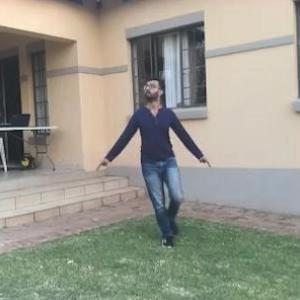land: (110, 88, 198, 228)
